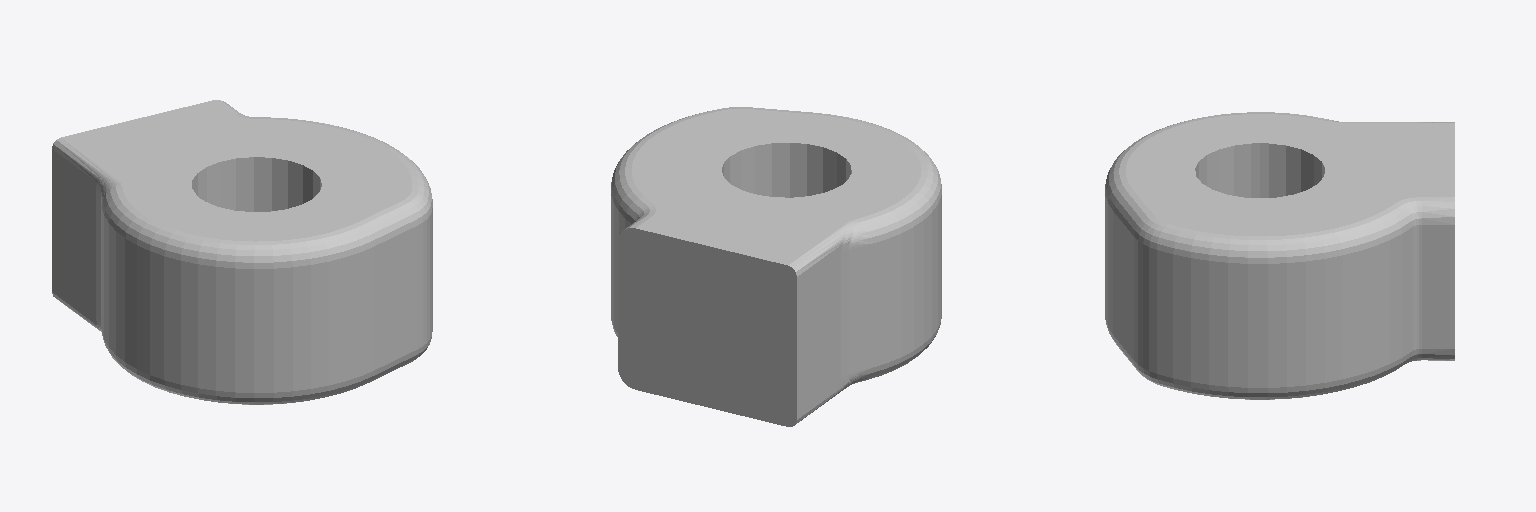
Rendered from head_1.obj.
3 renders of one model, left to right at view 1: azimuth 30°, elevation 25°; view 2: azimuth 150°, elevation 25°; view 3: azimuth 270°, elevation 25°, orthographic.
Parts seen in each view (by area): view 1: head_1; view 2: head_1; view 3: head_1.
Part boxes in pixels (bbox=[...]): head_1: bbox=[52, 100, 432, 404]; head_1: bbox=[611, 107, 941, 426]; head_1: bbox=[1105, 112, 1454, 399].
Bounding box in the file's own units: 0.1599 × 0.086 × 0.1689.